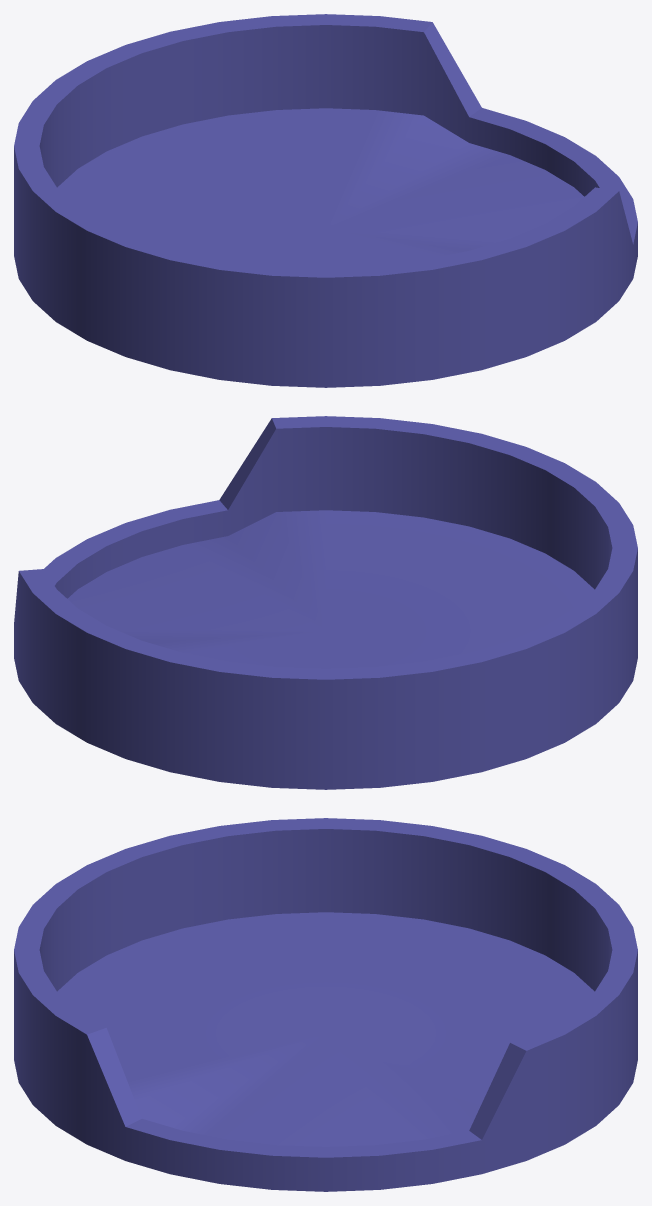
The model's file is cucha.fbx.
3 renders of one model, top to bottom at view 1: azimuth 30°, elevation 25°; view 2: azimuth 150°, elevation 25°; view 3: azimuth 270°, elevation 25°, orthographic.
Parts seen in each view (by area): view 1: Cylinder; view 2: Cylinder; view 3: Cylinder.
Part boxes in pixels (<box>): Cylinder: <box>14,14,637,387</box>; Cylinder: <box>14,416,637,789</box>; Cylinder: <box>14,818,637,1191</box>.
Size of the model in its own units: 100 by 19.47 by 100.
